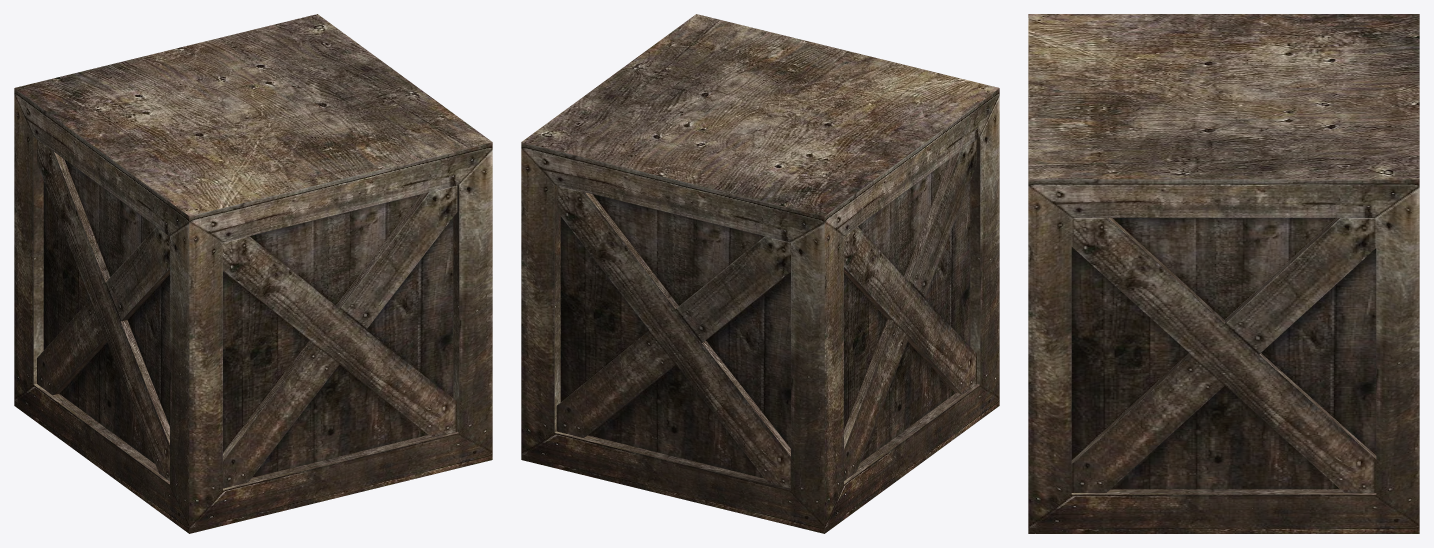
The model's file is prodcratesb.glb.
3 views of the same model, side by side, from view 1: azimuth 30°, elevation 25°; view 2: azimuth 150°, elevation 25°; view 3: azimuth 270°, elevation 25° (orthographic). The views are drawn at different scales.
Parts seen in each view (by area): view 1: 0_prodcrates; view 2: 0_prodcrates; view 3: 0_prodcrates.
Boxes of the visible parts, x1,y1,x2,y2 form: 0_prodcrates: (14, 14, 492, 533); 0_prodcrates: (521, 14, 999, 533); 0_prodcrates: (1028, 14, 1419, 533).
Size of the model in its own units: 1.63 by 1.63 by 1.63.
Materials: 1 (1 with a texture image).
